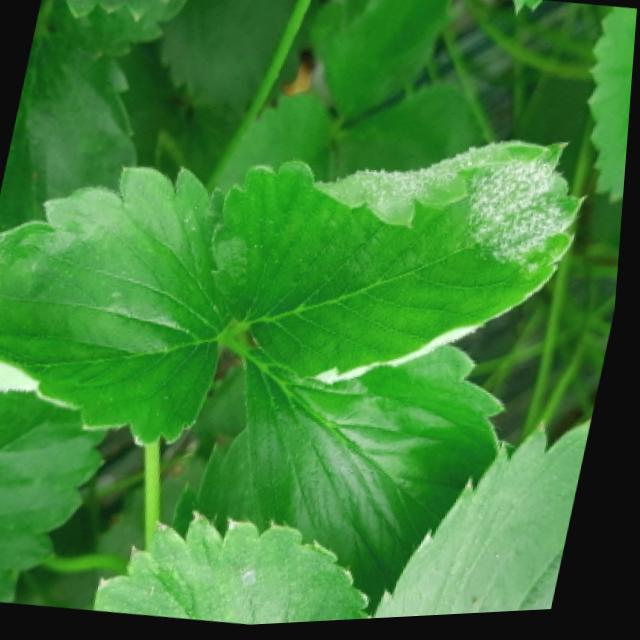Powdery Mildew Leaf: (212, 143, 590, 389), (0, 166, 243, 449)
